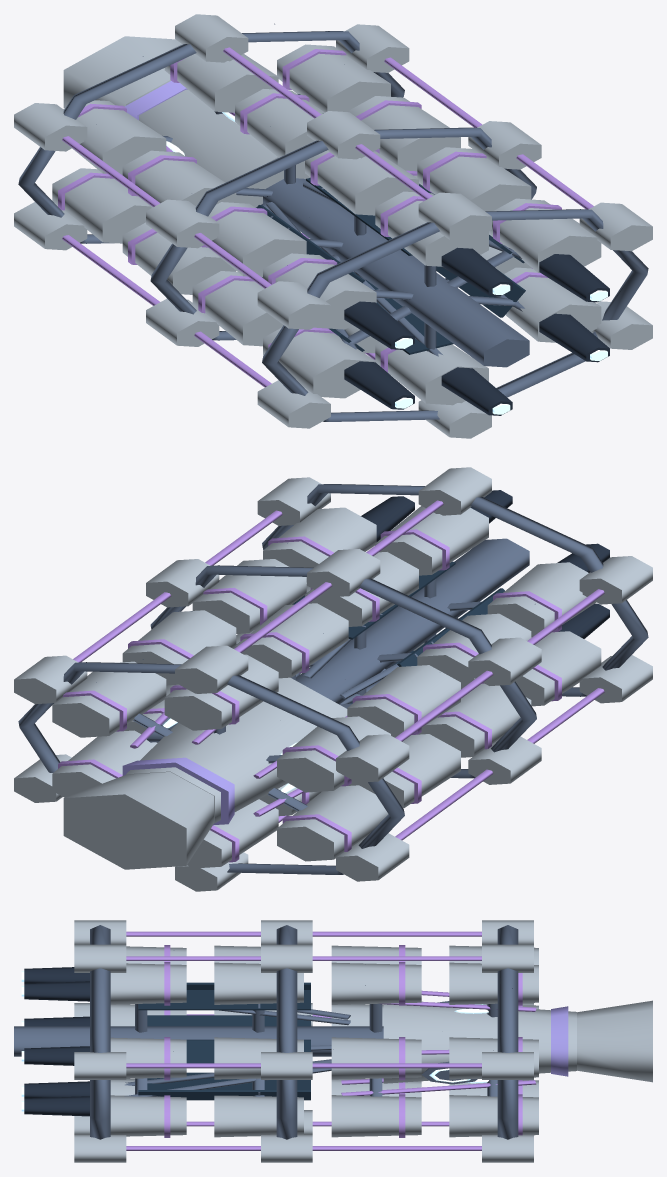
Rendered from cryogenic_hydrocarbon--colony_ship--lod1.glb.
3 renders of one model, top to bottom at view 1: azimuth 30°, elevation 25°; view 2: azimuth 150°, elevation 25°; view 3: azimuth 270°, elevation 25°, orthographic. The views are drawn at different scales.
Visible parts, largest first — view 1: thermal_isolation_spine_1, ark_hexaframe_143, cold_habitat_lantern_2, ark_hexaframe_129, ark_hexaframe_136, insulated_habitat_lantern_60, forward_ice_cap_3, insulated_habitat_lantern_69, insulated_habitat_lantern_96, insulated_habitat_lantern_123, insulated_habitat_lantern_114, insulated_habitat_lantern_108 (+40 smaller); view 2: forward_ice_cap_3, cold_habitat_lantern_2, thermal_isolation_spine_1, ark_hexaframe_129, insulated_habitat_lantern_69, insulated_habitat_lantern_60, ark_hexaframe_143, ark_hexaframe_136, insulated_habitat_lantern_90, insulated_habitat_lantern_75, insulated_habitat_lantern_96, insulated_habitat_lantern_114 (+35 smaller); view 3: cold_habitat_lantern_2, forward_ice_cap_3, thermal_isolation_spine_1, ark_hexaframe_129, ark_hexaframe_136, insulated_habitat_lantern_75, insulated_habitat_lantern_81, ark_hexaframe_143, insulated_habitat_lantern_78, insulated_habitat_lantern_117, insulated_habitat_lantern_99, insulated_habitat_lantern_111 (+51 smaller).
Boxes of the visible parts, x1=… form: thermal_isolation_spine_1: x1=263, y1=178, x2=529, y2=367; ark_hexaframe_143: x1=262, y1=209, x2=648, y2=421; cold_habitat_lantern_2: x1=126, y1=80, x2=309, y2=207; ark_hexaframe_129: x1=18, y1=31, x2=404, y2=243; ark_hexaframe_136: x1=150, y1=127, x2=536, y2=340; insulated_habitat_lantern_60: x1=277, y1=44, x2=390, y2=112; forward_ice_cap_3: x1=63, y1=36, x2=181, y2=107; insulated_habitat_lantern_69: x1=52, y1=168, x2=151, y2=243; insulated_habitat_lantern_96: x1=417, y1=147, x2=531, y2=211; insulated_habitat_lantern_123: x1=263, y1=327, x2=376, y2=398; insulated_habitat_lantern_114: x1=489, y1=198, x2=601, y2=272; insulated_habitat_lantern_108: x1=206, y1=202, x2=306, y2=277; forward_ice_cap_3: x1=63, y1=772, x2=214, y2=869; cold_habitat_lantern_2: x1=126, y1=677, x2=347, y2=823; thermal_isolation_spine_1: x1=296, y1=538, x2=529, y2=704; ark_hexaframe_129: x1=18, y1=662, x2=404, y2=874; insulated_habitat_lantern_69: x1=277, y1=785, x2=388, y2=861; insulated_habitat_lantern_60: x1=52, y1=661, x2=166, y2=737; ark_hexaframe_143: x1=262, y1=484, x2=648, y2=696; ark_hexaframe_136: x1=150, y1=565, x2=536, y2=778; insulated_habitat_lantern_90: x1=347, y1=665, x2=460, y2=737; insulated_habitat_lantern_75: x1=235, y1=603, x2=348, y2=678; insulated_habitat_lantern_96: x1=192, y1=559, x2=306, y2=633; insulated_habitat_lantern_114: x1=263, y1=507, x2=376, y2=582; cold_habitat_lantern_2: x1=383, y1=1001, x2=576, y2=1083; forward_ice_cap_3: x1=577, y1=1000, x2=652, y2=1082; thermal_isolation_spine_1: x1=14, y1=1026, x2=383, y2=1056; ark_hexaframe_129: x1=497, y1=925, x2=518, y2=1139; ark_hexaframe_136: x1=276, y1=925, x2=297, y2=1139; insulated_habitat_lantern_75: x1=331, y1=962, x2=421, y2=1004; insulated_habitat_lantern_81: x1=331, y1=1095, x2=421, y2=1137; ark_hexaframe_143: x1=90, y1=925, x2=110, y2=1139; insulated_habitat_lantern_78: x1=331, y1=1037, x2=421, y2=1079; insulated_habitat_lantern_117: x1=110, y1=1095, x2=186, y2=1136; insulated_habitat_lantern_99: x1=214, y1=1095, x2=303, y2=1137; insulated_habitat_lantern_111: x1=110, y1=963, x2=186, y2=1004.
Bounding box in the file's own units: 7600 × 4200 × 13000.
